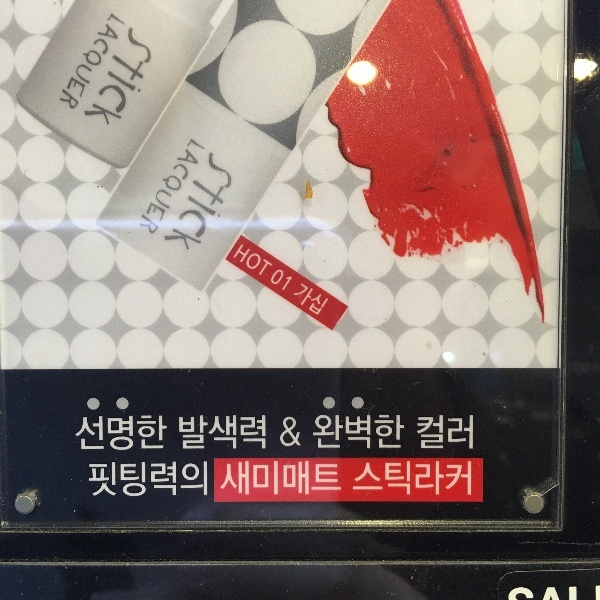text: (97, 26, 112, 143), (113, 26, 128, 143), (129, 26, 144, 143), (177, 152, 192, 262), (193, 152, 208, 262), (209, 152, 224, 262), (65, 10, 80, 116), (81, 10, 96, 116), (97, 10, 112, 116), (145, 138, 160, 240), (161, 138, 176, 240), (177, 138, 192, 240), (83, 26, 96, 143), (163, 152, 176, 262), (193, 138, 207, 240), (113, 10, 126, 116), (145, 26, 155, 143), (225, 152, 235, 262), (136, 138, 144, 240), (57, 10, 64, 116), (81, 414, 96, 455), (97, 414, 112, 455), (113, 414, 128, 455), (129, 414, 144, 455), (145, 414, 160, 455), (97, 463, 112, 502), (113, 463, 128, 502), (129, 463, 144, 502), (145, 463, 160, 502), (161, 463, 176, 502), (177, 463, 192, 502), (193, 463, 208, 502), (257, 243, 273, 279), (321, 415, 336, 452), (337, 415, 352, 452), (353, 415, 368, 452), (369, 415, 384, 452), (385, 415, 400, 452), (305, 281, 320, 317), (193, 416, 208, 452), (209, 416, 224, 452), (225, 416, 240, 452), (241, 416, 256, 452), (417, 415, 432, 451), (433, 415, 448, 451), (449, 415, 464, 451), (369, 462, 384, 498), (385, 462, 400, 498), (401, 462, 416, 498), (417, 462, 432, 498), (433, 462, 448, 498), (449, 462, 464, 498), (225, 464, 240, 498), (241, 464, 256, 498), (257, 464, 272, 498), (273, 464, 288, 498), (289, 464, 304, 498), (305, 464, 320, 498), (321, 464, 336, 498), (242, 243, 256, 279), (178, 416, 192, 452), (354, 462, 368, 498), (289, 417, 301, 450), (465, 415, 475, 451), (311, 415, 320, 452), (257, 416, 266, 452), (88, 463, 96, 502), (321, 281, 329, 317), (465, 462, 473, 498), (161, 414, 168, 455), (277, 267, 288, 292), (280, 417, 288, 450), (75, 414, 80, 455), (337, 464, 343, 498), (401, 415, 406, 452), (221, 464, 224, 498), (289, 267, 293, 292), (302, 281, 304, 317), (415, 415, 416, 451)
